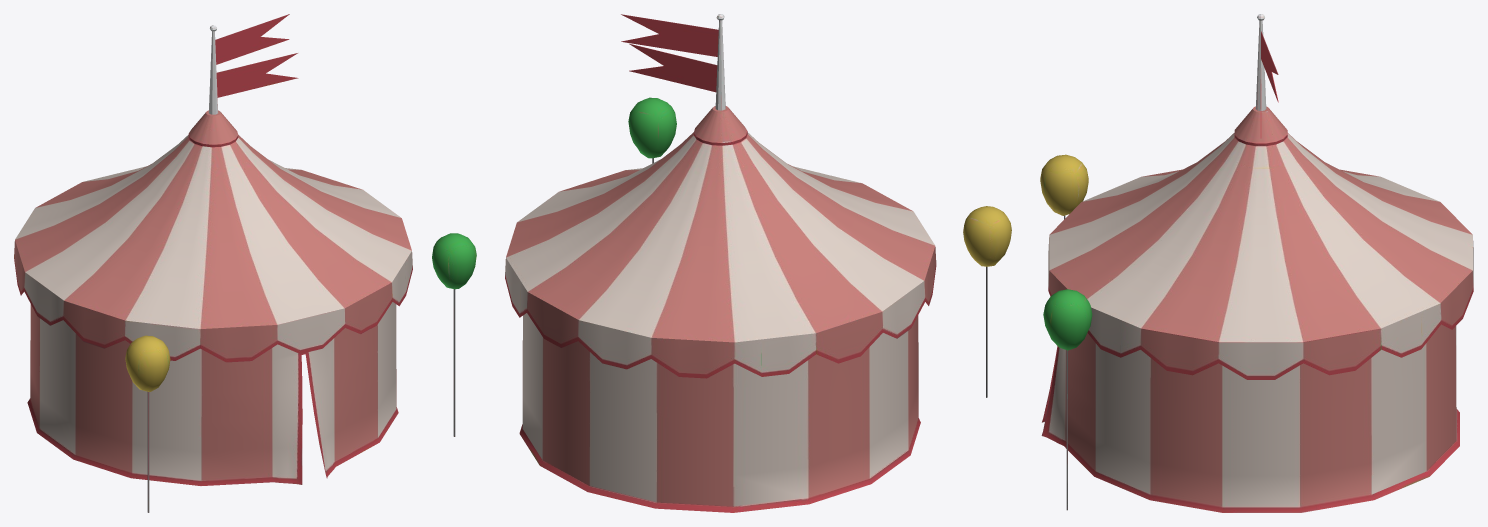
File: BUILDING_NormalHumor_2.fbx
The picture shows the model from 3 angles, left to right: view 1: azimuth 30°, elevation 25°; view 2: azimuth 150°, elevation 25°; view 3: azimuth 270°, elevation 25°; orthographic projection. The views are drawn at different scales.
Visible parts, largest first — view 1: BUILDING_NormalHumor_2_Baked; view 2: BUILDING_NormalHumor_2_Baked; view 3: BUILDING_NormalHumor_2_Baked.
Boxes of the visible parts, <box> form: BUILDING_NormalHumor_2_Baked: <box>14,14,476,512</box>; BUILDING_NormalHumor_2_Baked: <box>505,14,1011,512</box>; BUILDING_NormalHumor_2_Baked: <box>1040,14,1473,512</box>.
Bounding box in the file's own units: 144 × 152 × 144.
